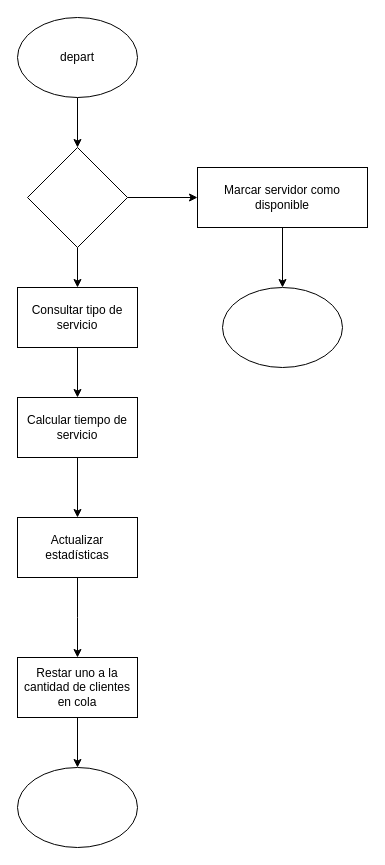
This 385x865 diagram has some shape labels left out. The shapes that lost their labels are listed below. From the top down, each one's centre as x and y in pixels, then its label:
At (77,197): "¿Hay clientes en la cola?".
At (282,327): "Bloquear próximo evento de salida del servidor".
At (77,807): "Reorganizar cola".
